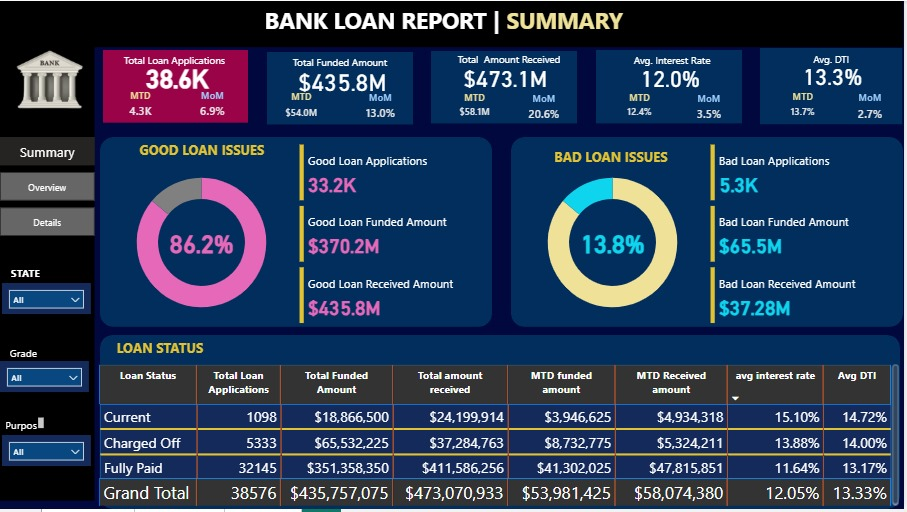

Layout of this report page (visuals, bound fields, positions):
{"tool":"powerbi","page":{"name":"Summary","canvas":[1280,720],"ordinal":0},"visuals":[{"type":"shape","box":[0,65.5,134.4,643.4],"z":0},{"type":"shape","box":[1077.7,66.6,201.5,108.1],"z":0,"group":"g4"},{"type":"shape","box":[845.2,69.4,207.2,104],"z":0,"group":"g5"},{"type":"shape","box":[145.9,69.5,205.5,103.5],"z":0,"group":"g1"},{"type":"shape","box":[611.4,70.8,207.2,102.7],"z":0,"group":"g3"},{"type":"shape","box":[378.4,72.3,206.9,102.7],"z":0,"group":"g2"},{"type":"group","id":"g1","title":"Group 1","box":[141,69.1,211.2,103.8],"z":1000},{"type":"card","fields":{"Values":["Bank_loan_data.Avg DTI"]},"box":[1084.4,77.2,191.4,55.7],"z":1000,"group":"g4"},{"type":"card","fields":{"Values":["Bank_loan_data.avg interest rate"]},"box":[852.1,79.7,196.8,53.6],"z":1000,"group":"g5"},{"type":"card","fields":{"Values":["Bank_loan_data.Total amount received"]},"box":[618.4,80.9,196.8,52.9],"z":1000,"group":"g3"},{"type":"card","fields":{"Values":["Bank_loan_data.Total Loan Applications"]},"box":[168.8,83.6,161.9,48.6],"z":1000,"group":"g1"},{"type":"card","fields":{"Values":["Bank_loan_data.Total Funded Amount"]},"box":[390.6,90.8,188.5,43.2],"z":1000,"group":"g2"},{"type":"shape","box":[0,0,1280,65.5],"z":2000},{"type":"textbox","box":[1077.2,67.4,201.5,29.5],"z":2000,"group":"g4"},{"type":"textbox","box":[625.3,68.2,192.8,31.2],"z":2000,"group":"g3"},{"type":"textbox","box":[866.1,69,172.9,34],"z":2000,"group":"g5"},{"type":"textbox","box":[141,69.1,211.2,32.6],"z":2000,"group":"g1"},{"type":"textbox","box":[381.4,72.4,201.2,28.6],"z":2000,"group":"g2"},{"type":"card","title":"MTD","fields":{"Values":["Bank_loan_data.MTD Loan Applications"]},"box":[168.6,124.1,58.1,48.2],"z":3000,"group":"g1"},{"type":"card","title":"MTD","fields":{"Values":["Bank_loan_data.MTD funded amount"]},"box":[393.4,125.9,66.6,52.7],"z":3000,"group":"g2"},{"type":"card","title":"MTD","fields":{"Values":["Bank_loan_data.MTD avg DTI"]},"box":[1098.4,126.6,79,48.4],"z":3000,"group":"g4"},{"type":"card","title":"MTD","fields":{"Values":["Bank_loan_data.MTD avg interest rate"]},"box":[866.5,127.1,81.2,46.5],"z":3000,"group":"g5"},{"type":"card","title":"MTD","fields":{"Values":["Bank_loan_data.MTD Received  amount"]},"box":[632.7,127.8,81.2,45.9],"z":3000,"group":"g3"},{"type":"shape","box":[141.7,192.8,555.6,269.3],"z":3000},{"type":"card","title":"MoM","fields":{"Values":["Bank_loan_data.MoM Loan Applications"]},"box":[269.3,124.1,60.9,48.2],"z":4000,"group":"g1"},{"type":"card","title":"MoM","fields":{"Values":["Bank_loan_data.MoM total funded amount"]},"box":[501.1,127.3,75.1,50],"z":4000,"group":"g2"},{"type":"card","title":"MoM","fields":{"Values":["Bank_loan_data.MoM avg DTI"]},"box":[1187.7,128,91,51.1],"z":4000,"group":"g4"},{"type":"card","title":"MoM","fields":{"Values":["Bank_loan_data.MoM avg int rate"]},"box":[958.4,128.5,93.6,49.2],"z":4000,"group":"g5"},{"type":"card","title":"MoM","fields":{"Values":["Bank_loan_data.MoM total amount received"]},"box":[724.6,129.1,93.6,48.6],"z":4000,"group":"g3"},{"type":"textbox","box":[2.8,369.9,66.6,29.8],"z":4000},{"type":"card","fields":{"Values":["Bank_loan_data.Good Loan %"]},"box":[233.9,316.1,103.5,52.4],"z":5000},{"type":"textbox","box":[185.7,192.8,201.3,39.7],"z":6000},{"type":"textbox","box":[369.6,0,540.9,58.8],"z":7000},{"type":"group","id":"g2","title":"Group 1","box":[378.4,72.3,206.9,106.3],"z":8000},{"type":"donutChart","fields":{"Category":["Bank_loan_data.Good vs Bad Loan"],"Y":["Bank_loan_data.Total Loan Applications"]},"box":[151.7,222.5,267.9,239.5],"z":9000},{"type":"group","id":"g3","title":"Group 1","box":[611.4,68.2,207.2,109.5],"z":10000},{"type":"group","id":"g4","title":"Group 1","box":[1077.2,66.6,202.7,112],"z":11000},{"type":"group","id":"g5","title":"Group 1","box":[845.2,69,207.2,108.7],"z":12000},{"type":"shape","box":[724.3,192.8,555.6,269.3],"z":13000},{"type":"cardVisual","fields":{"Data":["Bank_loan_data.Good Loan Applications","Bank_loan_data.Good Loan Funded Amount","Bank_loan_data.Good Loan Received Amount"]},"box":[419.5,198.4,266.5,263.6],"z":14000},{"type":"donutChart","fields":{"Category":["Bank_loan_data.Good vs Bad Loan"],"Y":["Bank_loan_data.Total Loan Applications"]},"box":[734.2,222.5,267.9,239.5],"z":15000},{"type":"textbox","box":[765.4,202.7,201.3,39.7],"z":16000},{"type":"cardVisual","fields":{"Data":["Bank_loan_data.Bad Loan Applications","Bank_loan_data.BadLoan Funded Amount","Bank_loan_data.Bad Loan Received Amount"]},"box":[1002,198.4,266.5,263.6],"z":17000},{"type":"card","fields":{"Values":["Bank_loan_data.Good Loan %"]},"box":[816.4,316.1,103.5,52.4],"z":18000},{"type":"shape","box":[141.7,473.4,1133.9,246.6],"z":19000},{"type":"tableEx","fields":{"Values":["Bank_loan_data.loan_status","Bank_loan_data.Total Loan Applications","Bank_loan_data.Total Funded Amount","Bank_loan_data.Total amount received","Bank_loan_data.MTD funded amount","Bank_loan_data.MTD Received  amount","Bank_loan_data.avg interest rate","Bank_loan_data.Avg DTI"]},"box":[134.6,510.2,1143.8,209.8],"z":20000},{"type":"textbox","box":[126.1,473.4,201.3,39.7],"z":21000},{"type":"slicer","fields":{"Values":["Bank_loan_data.address_state"]},"box":[2.8,399.7,126.1,43.9],"z":22000},{"type":"slicer","fields":{"Values":["Bank_loan_data.grade"]},"box":[0,510.2,126.1,43.9],"z":23000},{"type":"textbox","box":[0,483.3,66.6,29.8],"z":24000},{"type":"slicer","fields":{"Values":["Bank_loan_data.purpose"]},"box":[2.8,615.1,126.1,43.9],"z":25000},{"type":"textbox","box":[0,585.4,66.6,29.8],"z":26000},{"type":"pageNavigator","box":[0,192.8,134.6,141.7],"z":27000},{"type":"image","box":[2.8,31.2,133.2,161.6],"z":28000}]}

Visuals, with their boxes in screenshot pixels (x1, y1, x2, y2), scaled from the page's 1280x720 canvas onto the 907x512 screenshot:
shape: 0,47,95,504
shape: 764,47,906,124
shape: 599,49,746,123
shape: 103,49,249,123
shape: 433,50,580,123
shape: 268,51,415,124
"Group 1" group: 100,49,250,123
card - Bank_loan_data.Avg DTI: 768,55,904,95
card - Bank_loan_data.avg interest rate: 604,57,743,95
card - Bank_loan_data.Total amount received: 438,58,578,95
card - Bank_loan_data.Total Loan Applications: 120,59,234,94
card - Bank_loan_data.Total Funded Amount: 277,65,410,95
shape: 0,0,906,47
textbox: 763,48,906,69
textbox: 443,48,580,71
textbox: 614,49,736,73
textbox: 100,49,250,72
textbox: 270,51,413,72
"MTD" card: 119,88,161,123
"MTD" card: 279,90,326,127
"MTD" card: 778,90,834,124
"MTD" card: 614,90,672,123
"MTD" card: 448,91,506,124
shape: 100,137,494,329
"MoM" card: 191,88,234,123
"MoM" card: 355,91,408,126
"MoM" card: 842,91,906,127
"MoM" card: 679,91,745,126
"MoM" card: 513,92,580,126
textbox: 2,263,49,284
card - Bank_loan_data.Good Loan %: 166,225,239,262
textbox: 132,137,274,165
textbox: 262,0,645,42
"Group 1" group: 268,51,415,127
donutChart - Bank_loan_data.Good vs Bad Loan x Bank_loan_data.Total Loan Applications: 107,158,297,329
"Group 1" group: 433,48,580,126
"Group 1" group: 763,47,906,127
"Group 1" group: 599,49,746,126
shape: 513,137,906,329
cardVisual - Bank_loan_data.Good Loan Applications x Bank_loan_data.Good Loan Funded Amount: 297,141,486,329
donutChart - Bank_loan_data.Good vs Bad Loan x Bank_loan_data.Total Loan Applications: 520,158,710,329
textbox: 542,144,685,172
cardVisual - Bank_loan_data.Bad Loan Applications x Bank_loan_data.BadLoan Funded Amount: 710,141,899,329
card - Bank_loan_data.Good Loan %: 578,225,652,262
shape: 100,337,904,511
tableEx - Bank_loan_data.loan_status x Bank_loan_data.Total Loan Applications: 95,363,906,511
textbox: 89,337,232,365
slicer - Bank_loan_data.address_state: 2,284,91,315
slicer - Bank_loan_data.grade: 0,363,89,394
textbox: 0,344,47,365
slicer - Bank_loan_data.purpose: 2,437,91,469
textbox: 0,416,47,437
pageNavigator: 0,137,95,238
image: 2,22,96,137
